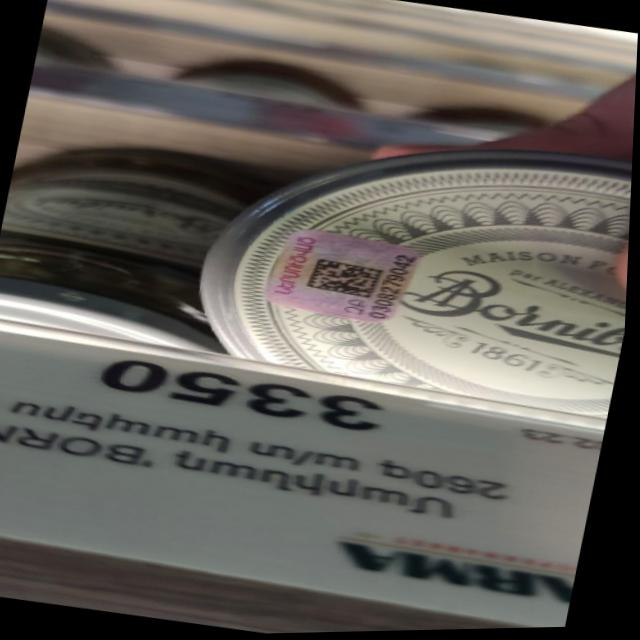datamatrix: (308, 257, 387, 303)
